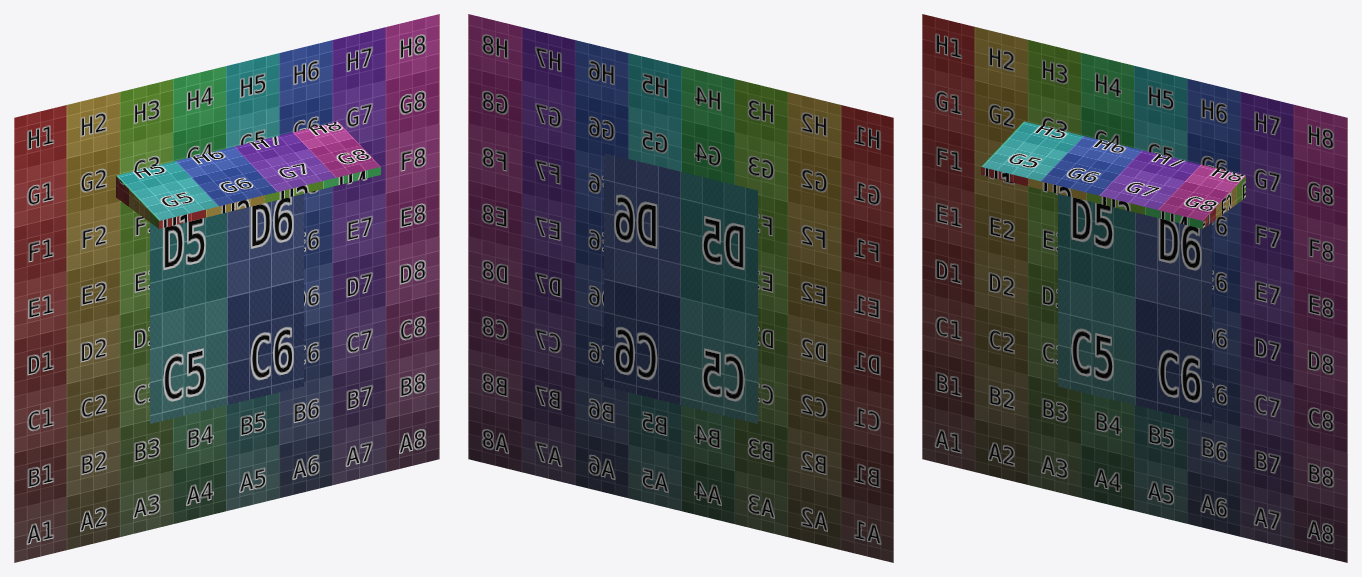
The model's file is buildings_test1.glb.
The picture shows the model from 3 angles, left to right: view 1: azimuth 30°, elevation 25°; view 2: azimuth 150°, elevation 25°; view 3: azimuth 330°, elevation 25°; orthographic projection.
Parts seen in each view (by area): view 1: wall_flat_window_s_v2_4x4.001; view 2: wall_flat_window_s_v2_4x4.001; view 3: wall_flat_window_s_v2_4x4.001.
Boxes of the visible parts, bbox=[...] form: wall_flat_window_s_v2_4x4.001: bbox=[14, 14, 439, 562]; wall_flat_window_s_v2_4x4.001: bbox=[468, 14, 893, 562]; wall_flat_window_s_v2_4x4.001: bbox=[922, 14, 1347, 562].
Size of the model in its own units: 4 by 4 by 0.7023.
Materials: 2 (2 with a texture image).
